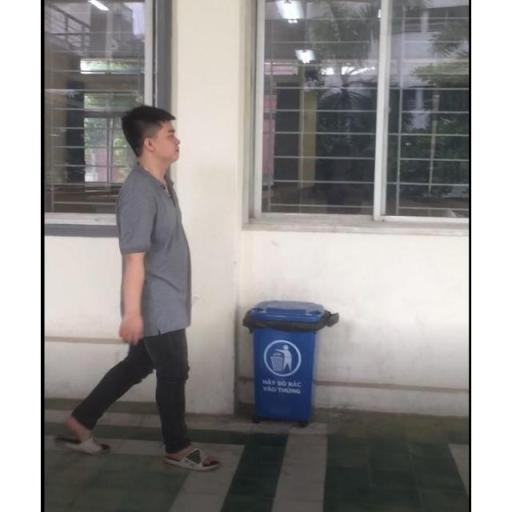Running: (57, 102, 230, 478)
